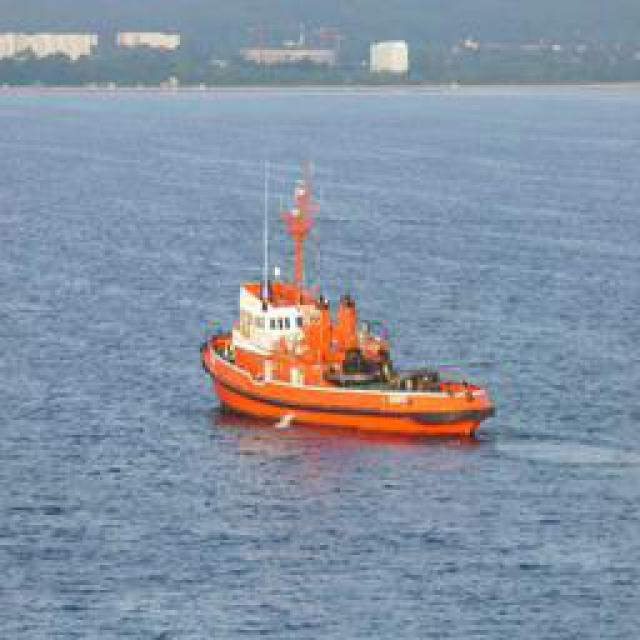Ship: (197, 154, 500, 447)
